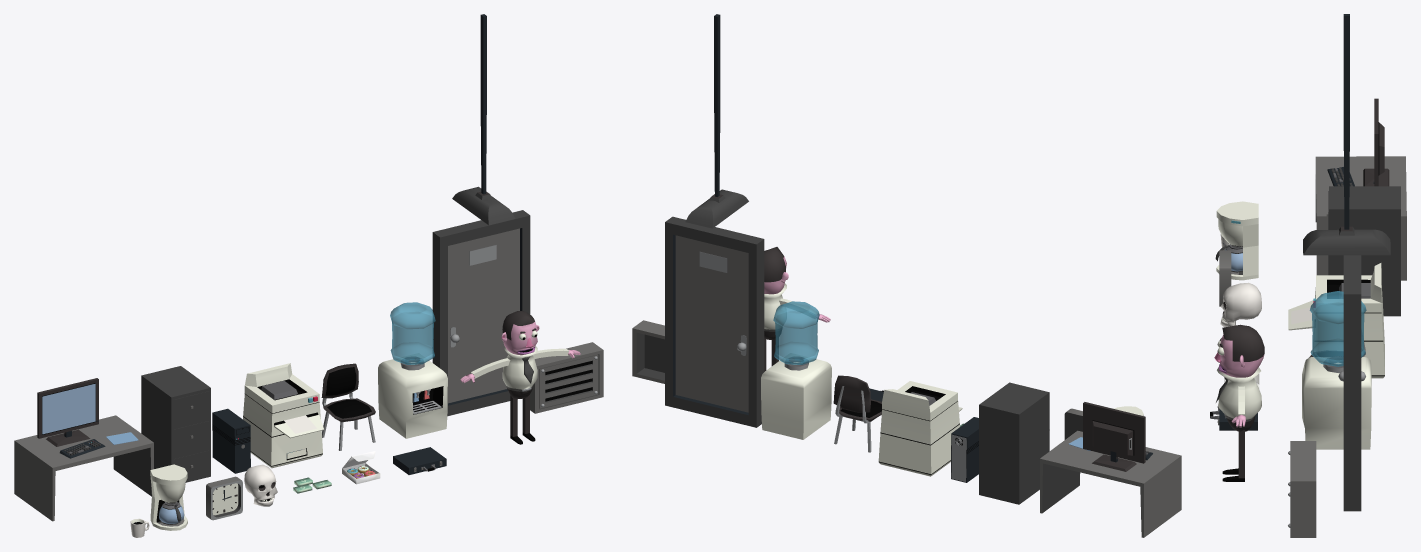
Rendered from office_man_pack_cartoon_stile.glb.
The picture shows the model from 3 angles, left to right: view 1: azimuth 30°, elevation 25°; view 2: azimuth 150°, elevation 25°; view 3: azimuth 270°, elevation 25°; orthographic projection. The views are drawn at different scales.
Parts seen in each view (by area): view 1: Door.002, Copy_machine, Desk, Door.003, water-dispenser, file_cabinet, Office_Man.001, Monitor, water_jug, Neon_lights.001, air_went_lid, Chair.001 (+9 smaller); view 2: Door.002, Door.003, file_cabinet, Desk, Copy_machine, water-dispenser, Monitor, water_jug, Neon_lights.001, Office_Man.001, Chair.001, Pc_unit.001 (+2 smaller); view 3: file_cabinet, Copy_machine, Door.003, Office_Man.001, water-dispenser, Neon_lights.001, Desk, air_went, water_jug, coffe_machine., skull, Monitor (+4 smaller).
Boxes of the visible parts, x1,y1,x2,y2 form: Door.002: [448, 228, 519, 403]; Copy_machine: [243, 363, 323, 468]; Desk: [14, 415, 153, 521]; Door.003: [432, 210, 530, 416]; water-dispenser: [378, 353, 447, 438]; file_cabinet: [141, 366, 210, 482]; Office_Man.001: [460, 310, 580, 444]; Monitor: [37, 378, 98, 446]; water_jug: [390, 302, 435, 364]; Neon_lights.001: [452, 14, 515, 225]; air_went_lid: [539, 354, 598, 408]; Chair.001: [321, 363, 375, 450]; Door.002: [675, 235, 748, 412]; Door.003: [665, 216, 764, 427]; file_cabinet: [979, 382, 1049, 504]; Desk: [1040, 430, 1181, 537]; Copy_machine: [878, 381, 962, 476]; water-dispenser: [761, 353, 831, 439]; Monitor: [1083, 402, 1145, 471]; water_jug: [773, 301, 819, 364]; Neon_lights.001: [685, 14, 748, 228]; Office_Man.001: [764, 247, 830, 371]; Chair.001: [833, 375, 881, 452]; Pc_unit.001: [951, 417, 978, 482]; file_cabinet: [1329, 186, 1400, 316]; Copy_machine: [1288, 263, 1384, 378]; Door.003: [1343, 255, 1361, 511]; Office_Man.001: [1214, 324, 1264, 481]; water-dispenser: [1302, 356, 1371, 449]; Neon_lights.001: [1303, 14, 1390, 255]; Desk: [1315, 156, 1406, 280]; air_went: [1290, 441, 1316, 537]; water_jug: [1309, 291, 1366, 366]; coffe_machine.: [1216, 201, 1258, 280]; skull: [1220, 282, 1261, 327]; Monitor: [1363, 98, 1389, 186].
Size of the model in its own units: 737 by 509 by 193.
8 materials, 6 textured.
